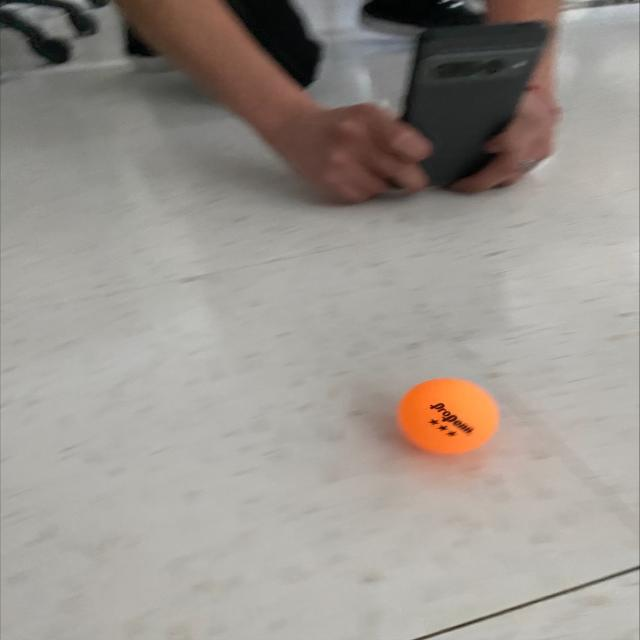ping-pong-ball: (394, 375, 506, 458)
